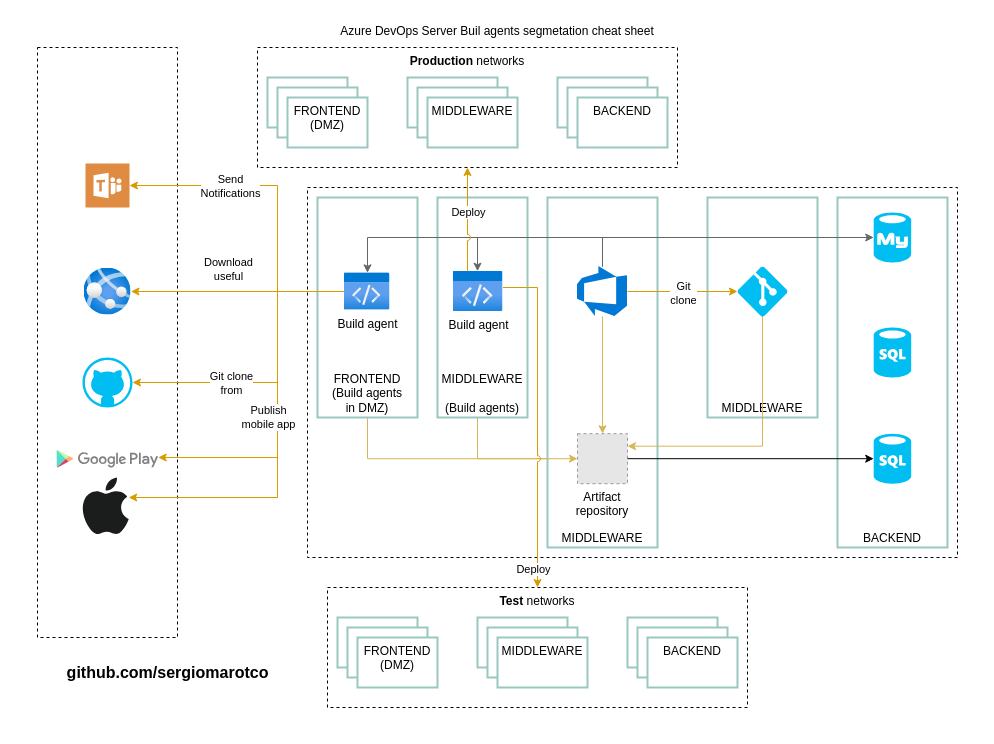
The diagram is 994 pixels wide and 744 high, and some of its shapes have lost their labels. Grey dashed boxes stand in for pictures. The shapes that lost their labels are listed below. From the top down, each one's box as (x1, y1, x2, y2) in pixels, then its label:
(85, 163, 129, 207): Teams
(84, 268, 130, 314): Pub services
(577, 266, 627, 316): Azure DevOps Server
(737, 266, 787, 316): Other Git server
(36, 46, 178, 638): Internet
(82, 357, 132, 407): Github.com
(306, 186, 958, 558): CI/CD service
(81, 477, 128, 534): AppStore
